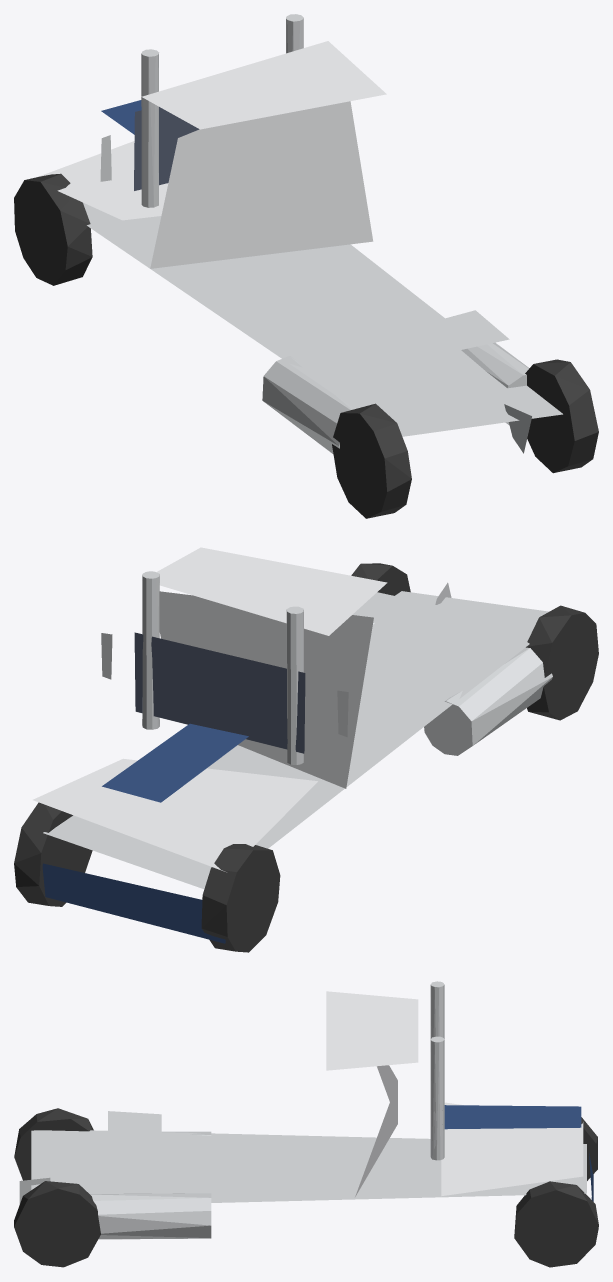
The model's file is tractor_lod1.glb.
The picture shows the model from 3 angles, top to bottom: view 1: azimuth 30°, elevation 25°; view 2: azimuth 150°, elevation 25°; view 3: azimuth 270°, elevation 25°; orthographic projection. The views are drawn at different scales.
Visible parts, largest first — view 1: Chassis, Cab, Sleeper, WheelDriveL, WheelSteerL, WheelDriveR, FifthWheel, FuelTankL, Hood, StackL, Windshield, FuelTankR (+3 smaller); view 2: Chassis, Cab, Hood, Windshield, Sleeper, WheelSteerL, FuelTankL, WheelDriveL, Bumper, HoodStripe, FifthWheel, WheelSteerR (+3 smaller); view 3: Chassis, Hood, Sleeper, WheelDriveR, WheelSteerR, FuelTankR, HoodStripe, FifthWheel, WheelDriveL, StackR, Cab, StackL (+1 smaller).
Part boxes in pixels (x1,y1,x2,y2): Chassis: [83, 202, 562, 436]; Cab: [150, 101, 373, 268]; Sleeper: [141, 41, 386, 129]; WheelDriveL: [332, 403, 411, 518]; WheelSteerL: [14, 173, 92, 285]; WheelDriveR: [525, 359, 598, 473]; FifthWheel: [323, 310, 509, 372]; FuelTankL: [262, 356, 354, 454]; Hood: [38, 141, 168, 220]; StackL: [141, 49, 158, 207]; Windshield: [134, 107, 199, 190]; FuelTankR: [461, 342, 529, 425]; Chassis: [43, 591, 548, 888]; Cab: [159, 591, 373, 788]; Hood: [33, 758, 317, 872]; Windshield: [134, 632, 305, 753]; Sleeper: [156, 547, 387, 635]; WheelSteerL: [201, 844, 280, 952]; FuelTankL: [424, 647, 552, 755]; WheelDriveL: [526, 605, 598, 720]; Bumper: [42, 863, 225, 943]; HoodStripe: [102, 723, 248, 802]; FifthWheel: [352, 592, 509, 650]; WheelSteerR: [14, 802, 92, 906]; Chassis: [31, 1130, 586, 1202]; Hood: [441, 1102, 583, 1196]; Sleeper: [326, 991, 418, 1070]; WheelDriveR: [14, 1181, 100, 1267]; WheelSteerR: [514, 1181, 598, 1267]; FuelTankR: [90, 1193, 211, 1239]; HoodStripe: [444, 1105, 581, 1129]; FifthWheel: [108, 1111, 161, 1172]; WheelDriveL: [14, 1108, 93, 1180]; StackR: [430, 1036, 444, 1160]; Cab: [355, 1065, 397, 1196]; StackL: [430, 981, 444, 1039].
Size of the model in its own units: 2.9 by 3.1 by 7.63.
